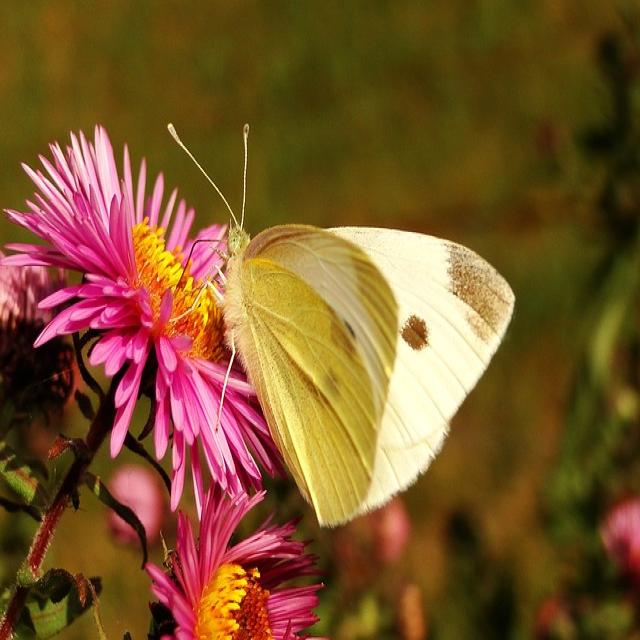butterfly: (224, 224, 516, 531)
